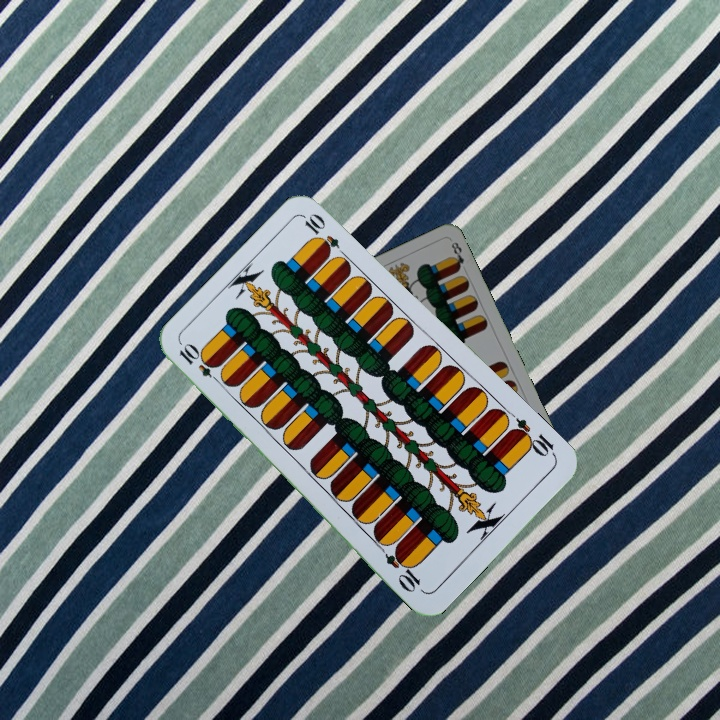E10: (506, 414, 559, 460), (175, 340, 226, 387)
